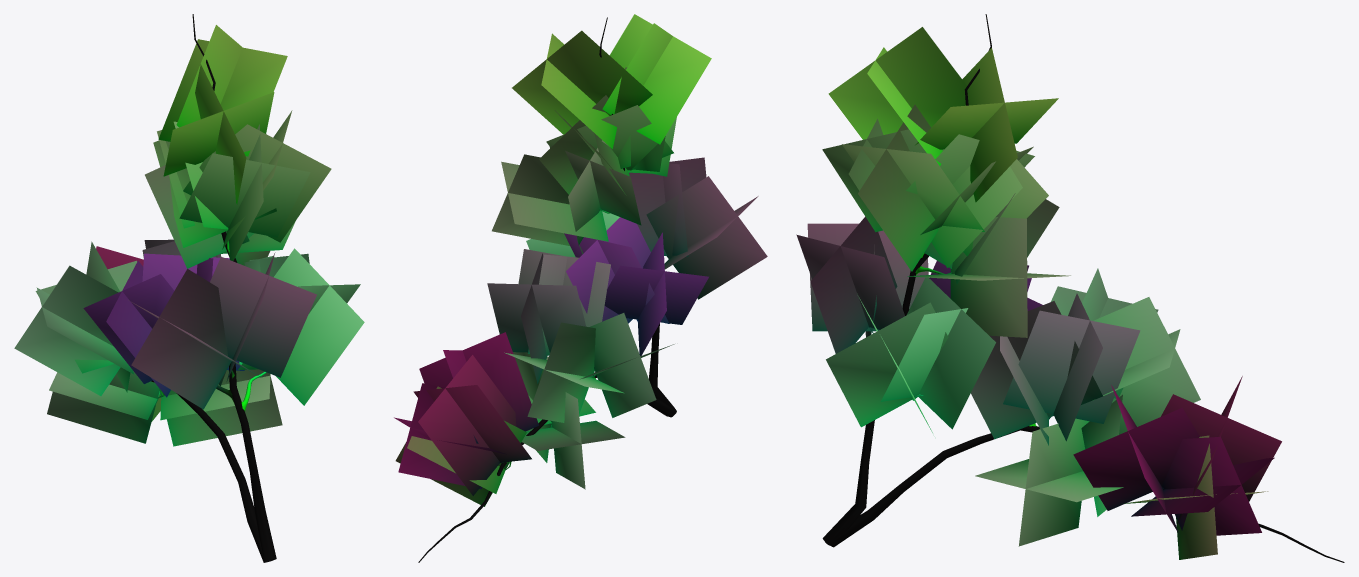
Rendered from M_P12_Tree_16.fbx.
3 views of the same model, side by side, from view 1: azimuth 30°, elevation 25°; view 2: azimuth 150°, elevation 25°; view 3: azimuth 270°, elevation 25° (orthographic). The views are drawn at different scales.
Parts seen in each view (by area): view 1: Tree_16; view 2: Tree_16; view 3: Tree_16.
Part boxes in pixels (x1,y1,x2,y2): Tree_16: (14, 14, 364, 562); Tree_16: (394, 14, 767, 562); Tree_16: (796, 14, 1344, 562).
Bounding box in the file's own units: 178 × 331 × 310.
